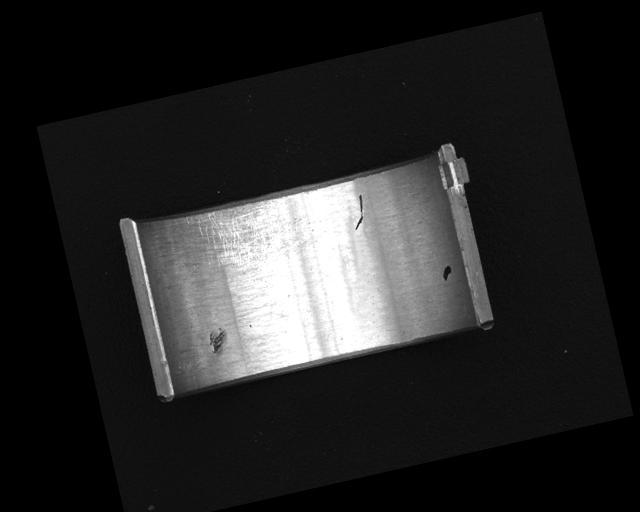blot: (440, 263, 454, 281)
bruise: (205, 325, 231, 356)
nick: (347, 193, 369, 229)
scratch: (185, 191, 315, 280)
